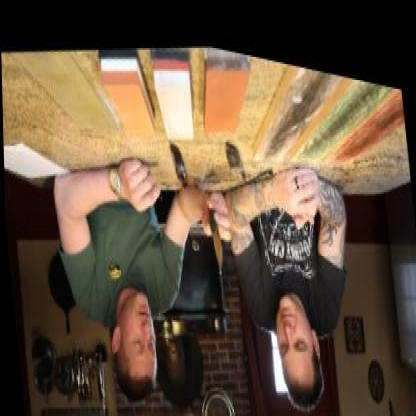knife: (199, 188, 237, 274)
